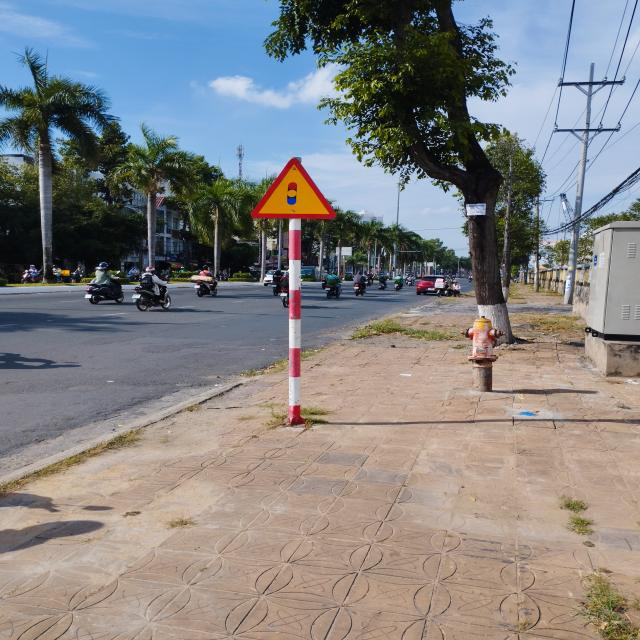Duong_Co_Go_Giam_Toc: (252, 158, 335, 219)
